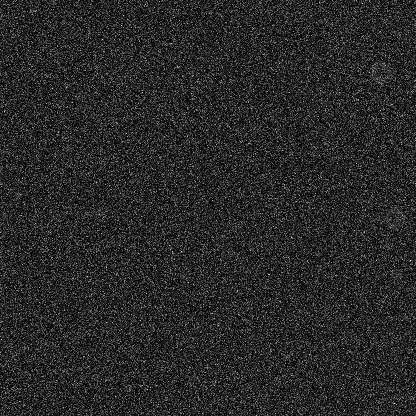Ring: (368, 60, 392, 84), (382, 206, 406, 230)
Spot: (322, 39, 338, 55), (390, 266, 406, 282), (93, 204, 109, 220)
